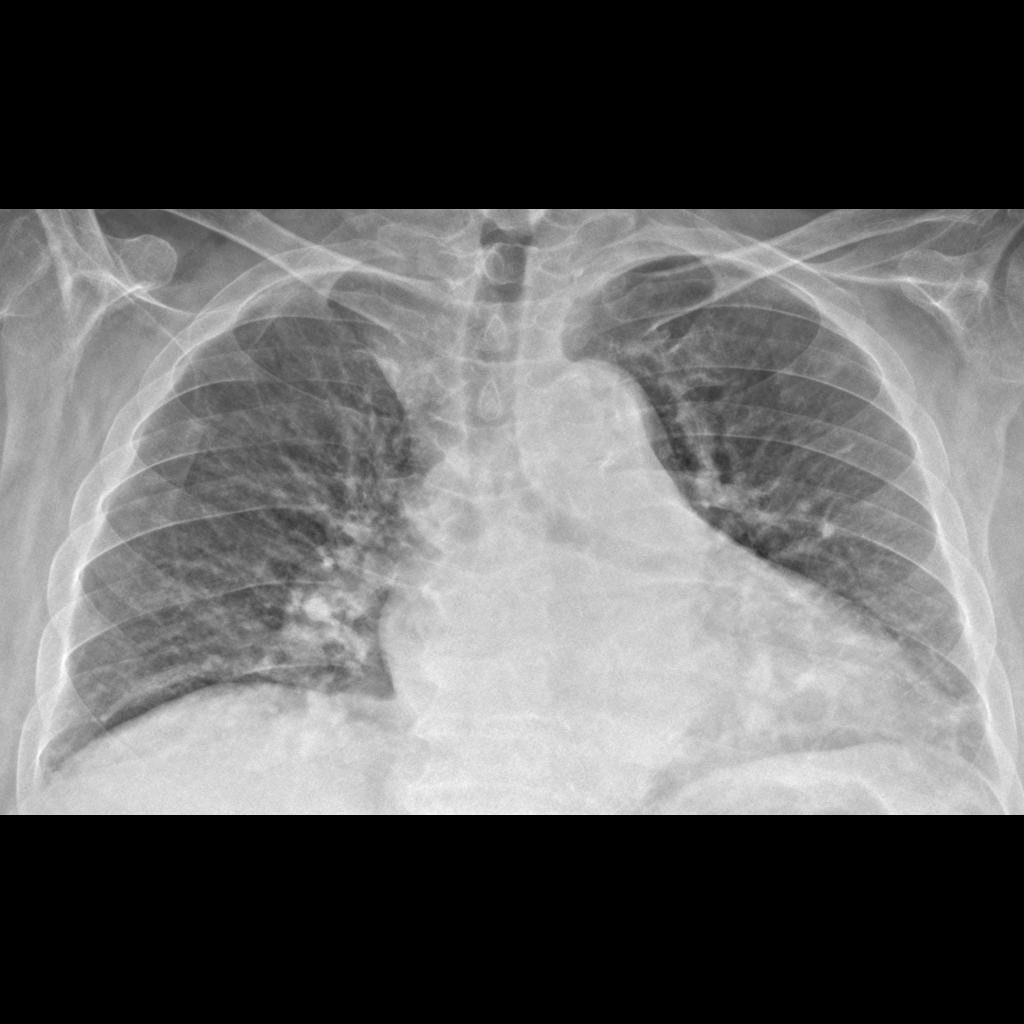Nodule: (738, 693, 785, 739), (736, 651, 781, 692), (299, 591, 338, 631)
